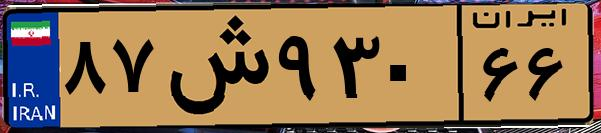0: (385, 28, 445, 110)
3: (330, 28, 385, 110)
6: (475, 38, 525, 113), (525, 38, 570, 115)
7: (110, 28, 158, 98)
8: (57, 26, 110, 100)
9: (270, 28, 330, 110)
ش: (158, 12, 270, 120)
